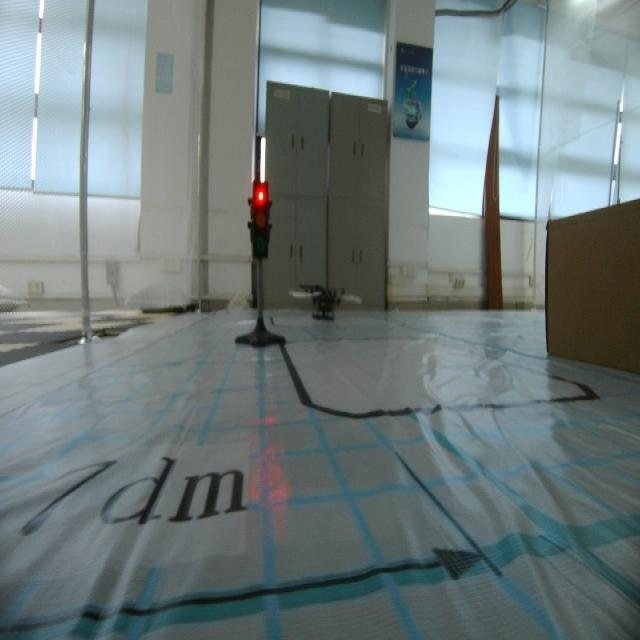red: (248, 180, 271, 262)
